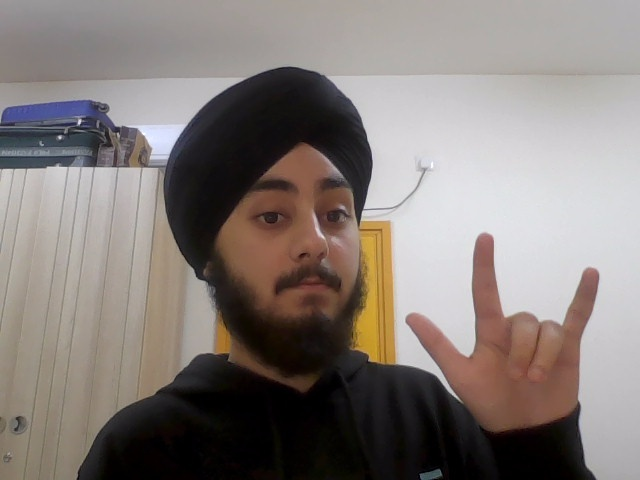ILoveYou: (403, 224, 609, 435)
